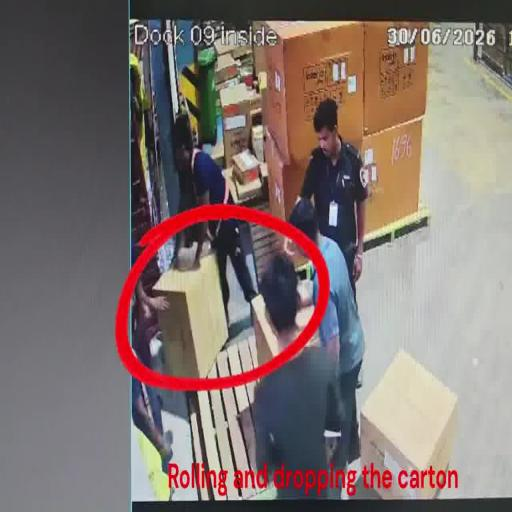carton: (358, 345, 458, 500), (264, 21, 364, 167), (152, 249, 229, 380), (356, 116, 422, 237), (362, 20, 429, 137), (264, 127, 318, 249), (252, 291, 324, 370), (222, 112, 250, 168), (218, 75, 258, 111), (232, 148, 262, 188), (216, 58, 252, 87), (215, 36, 251, 64)
pallet: (184, 335, 268, 503), (366, 206, 431, 252)
person: (251, 252, 344, 500), (288, 198, 364, 468), (172, 125, 260, 327), (298, 96, 371, 305), (131, 244, 174, 466)
